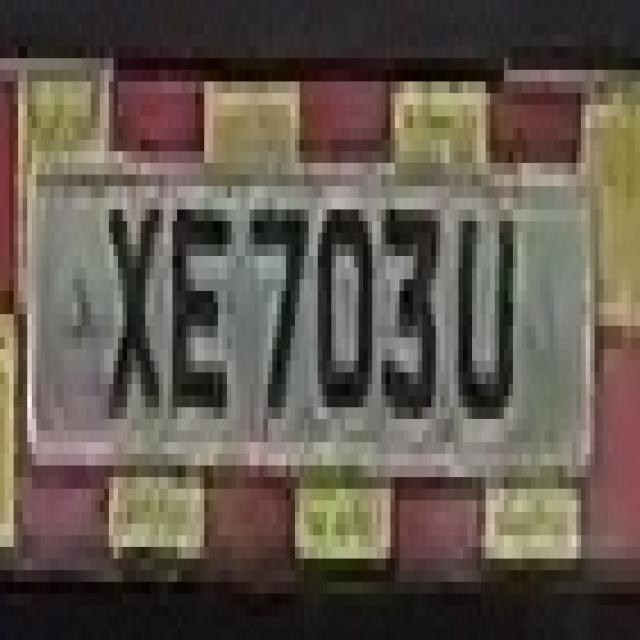0: (295, 151, 386, 489)
3: (376, 174, 436, 466)
7: (240, 174, 308, 454)
E: (168, 174, 236, 466)
U: (440, 163, 522, 477)
X: (96, 128, 172, 477)
